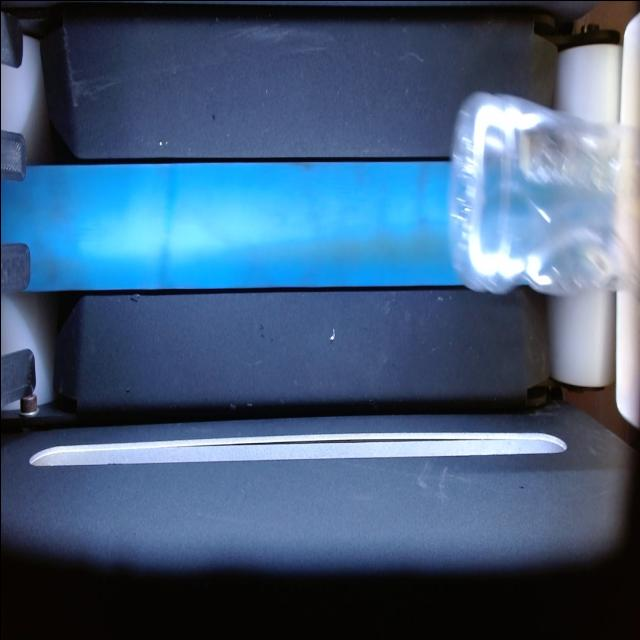bottom: (449, 91, 640, 295)
